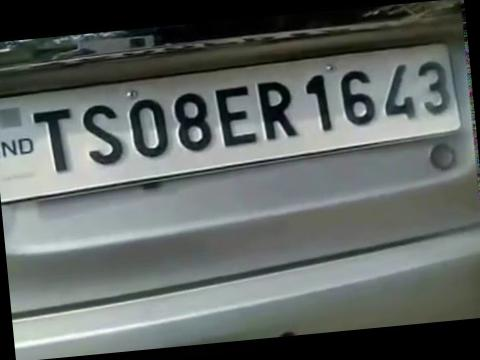plate: (3, 42, 468, 182)
